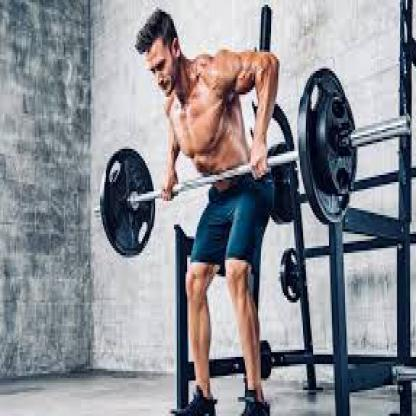Barbell: (395, 105, 416, 145)
